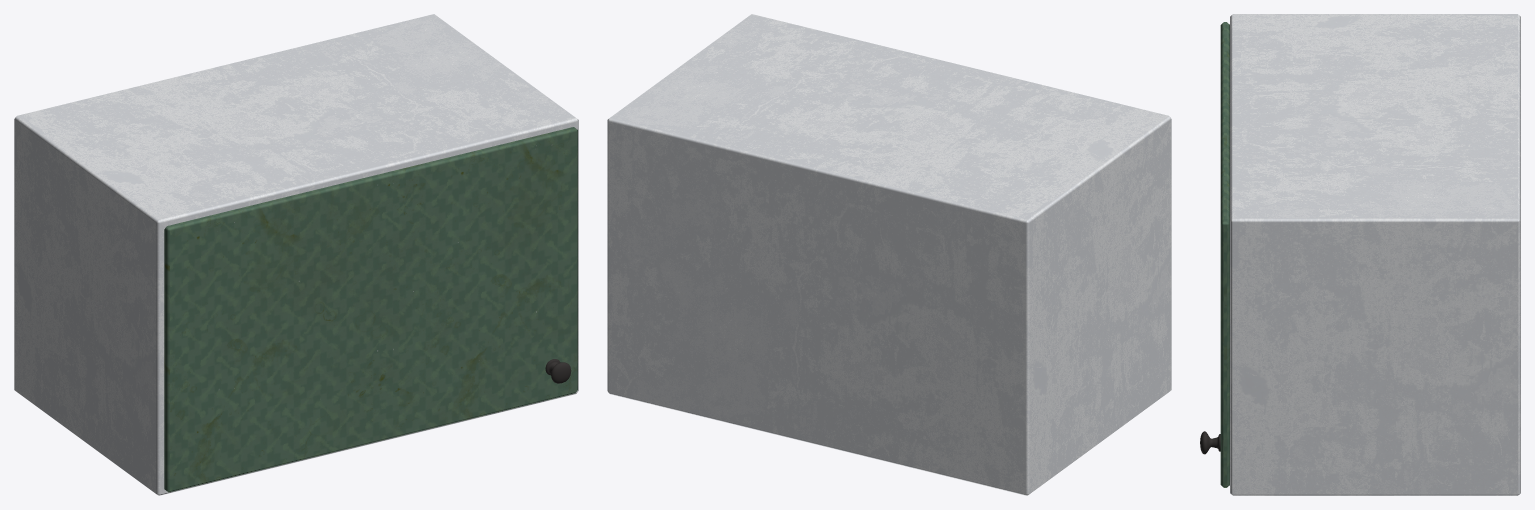
The model's file is Cabinet_A_5.fbx.
The picture shows the model from 3 angles, left to right: view 1: azimuth 30°, elevation 25°; view 2: azimuth 150°, elevation 25°; view 3: azimuth 270°, elevation 25°; orthographic projection.
Visible parts, largest first — view 1: Cabinet_A_5_Drawer, Cabinet_A_5; view 2: Cabinet_A_5; view 3: Cabinet_A_5, Cabinet_A_5_Drawer.
Boxes of the visible parts, left/top/right/bottom form: Cabinet_A_5_Drawer: left=164, top=127, right=577, bottom=492; Cabinet_A_5: left=14, top=14, right=578, bottom=495; Cabinet_A_5: left=607, top=14, right=1171, bottom=495; Cabinet_A_5: left=1230, top=14, right=1520, bottom=495; Cabinet_A_5_Drawer: left=1200, top=22, right=1229, bottom=487.
Bounding box in the file's own units: 80 × 50 × 52.39.
